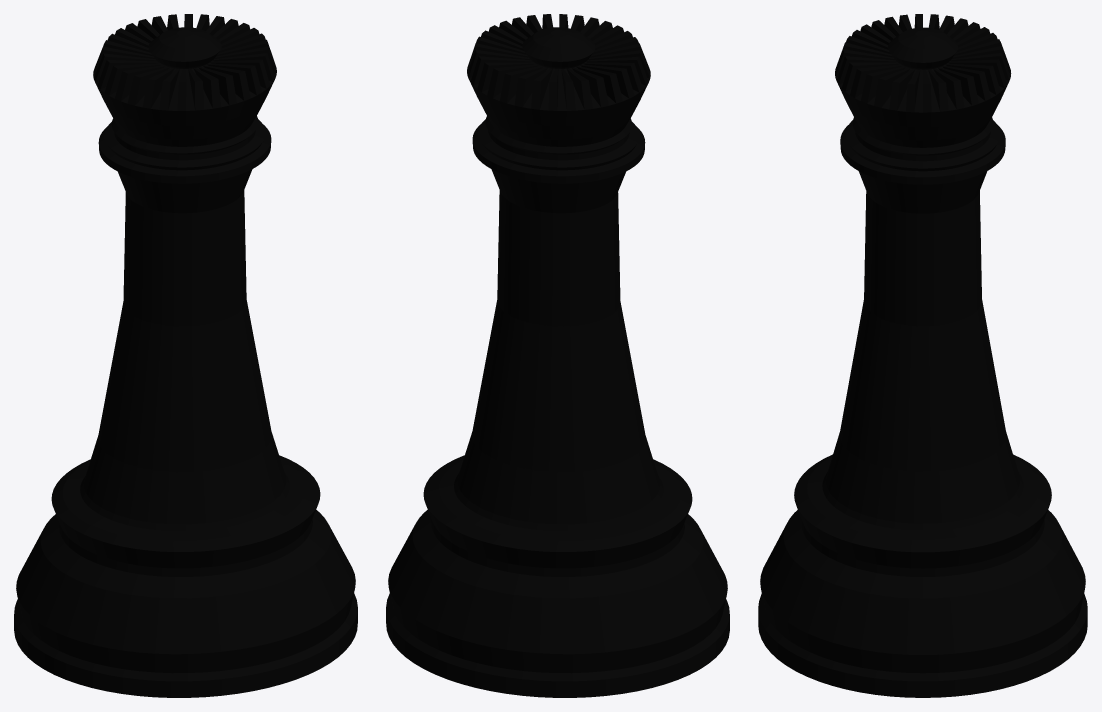
File: QueenB.glb
3 views of the same model, side by side, from view 1: azimuth 30°, elevation 25°; view 2: azimuth 150°, elevation 25°; view 3: azimuth 270°, elevation 25° (orthographic).
Visible parts, largest first — view 1: RookA8; view 2: RookA8; view 3: RookA8.
Part boxes in pixels (<box>): RookA8: <box>14,14,357,697</box>; RookA8: <box>386,14,729,697</box>; RookA8: <box>758,14,1087,697</box>.
Size of the model in its own units: 1.05 by 1.97 by 0.9981.
1 material, 1 textured.
